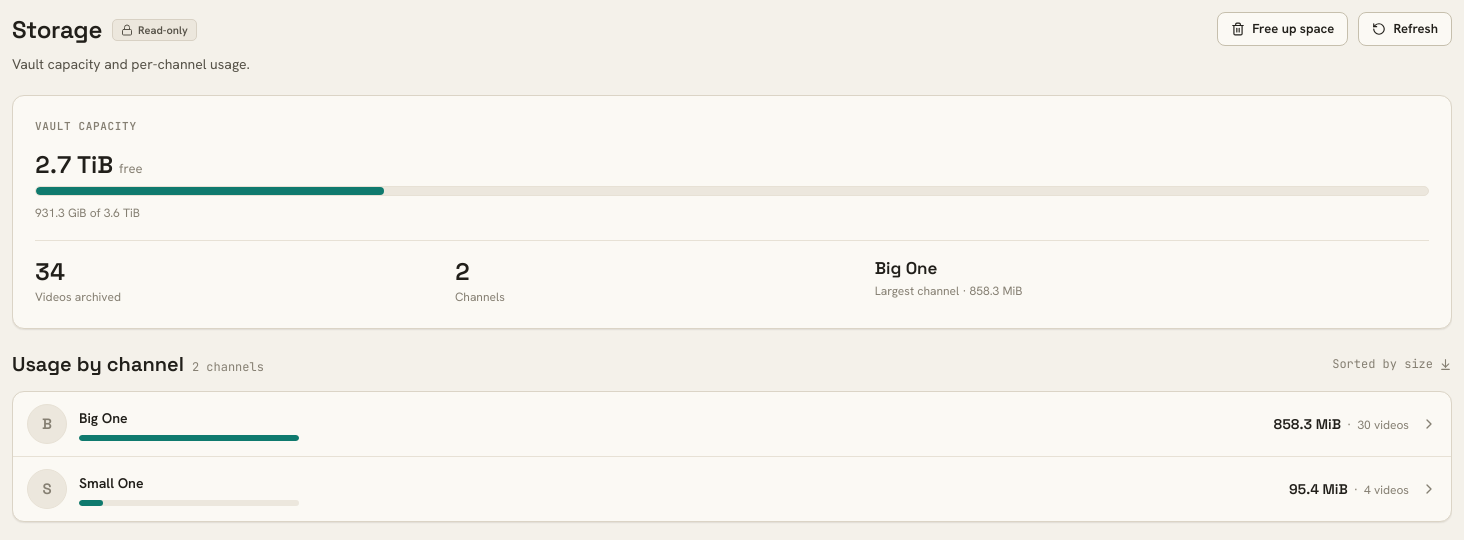
StoragePage › SST-I2: shows a "Free now" readout in the cleanup header, fed by the capacity gauge
The image size is (1464, 540).
Expected: the button with test id "storage-usage-row-c-big" is shown, [13,392,1451,457]
Click the button "Free up space" at (1283, 29), box [1217,12,1348,46]
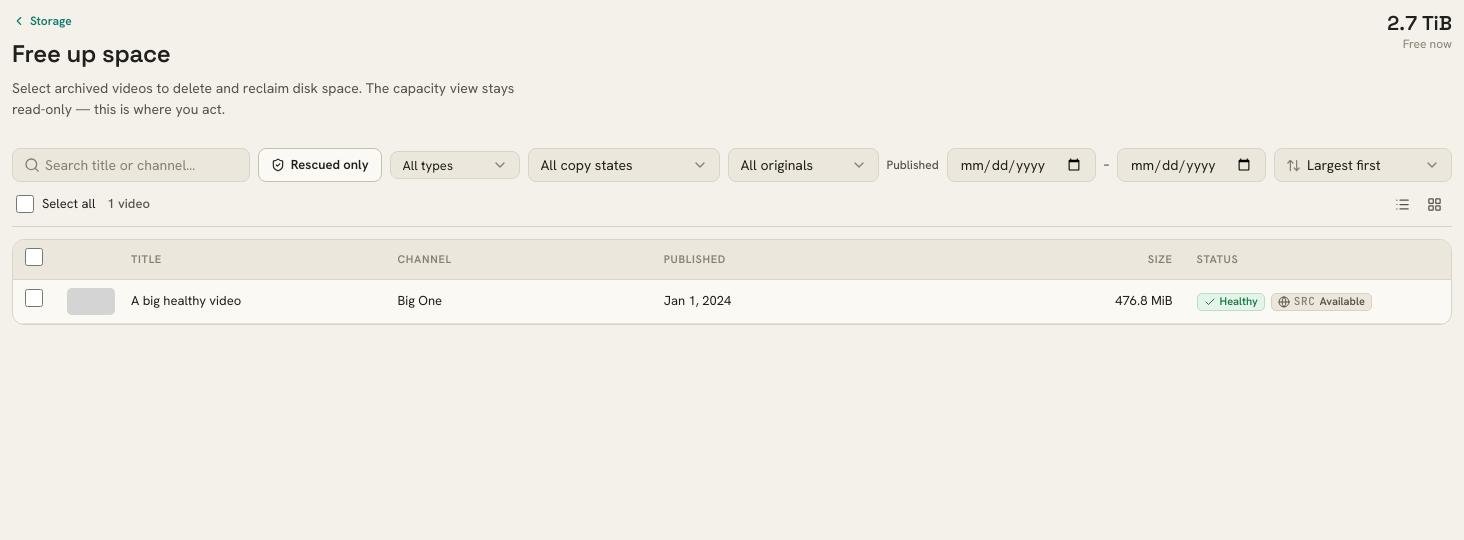
Expected: the text "A big healthy video" is shown, [119,279,385,323]
Expected: the text "Free now" is shown, [1403,35,1452,53]
